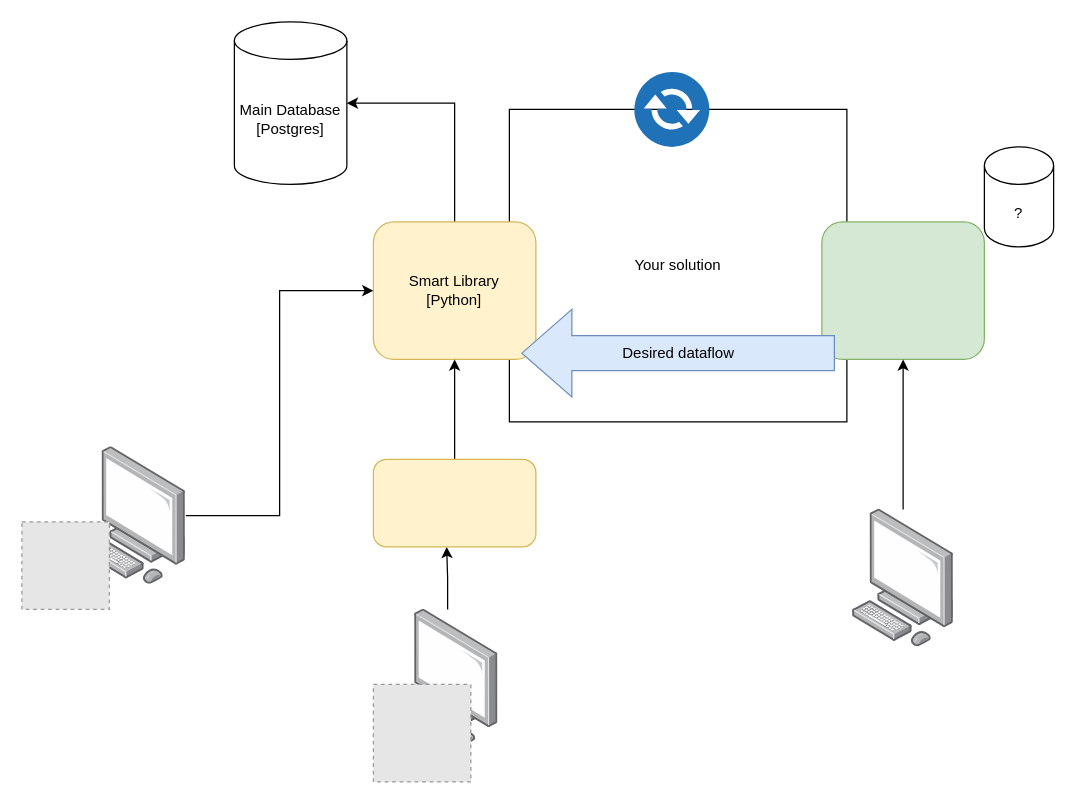
This 1076x804 diagram has some shape labels left out. Grey dashed boxes stand in for pictures. Here are the shapes that lost their labels. From the top down, the centre of each, then its label:
At (902,290): "CMS".
At (454,502): "Application".
